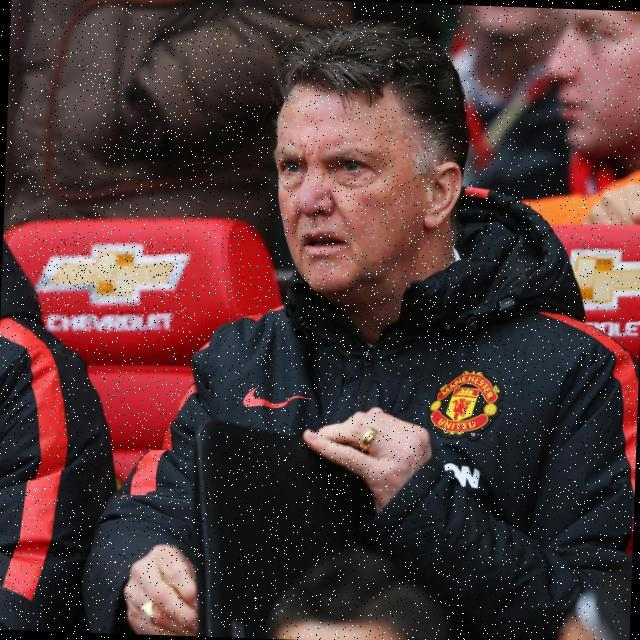Chevrolet: (33, 237, 188, 335)
Nike: (239, 383, 316, 416)
